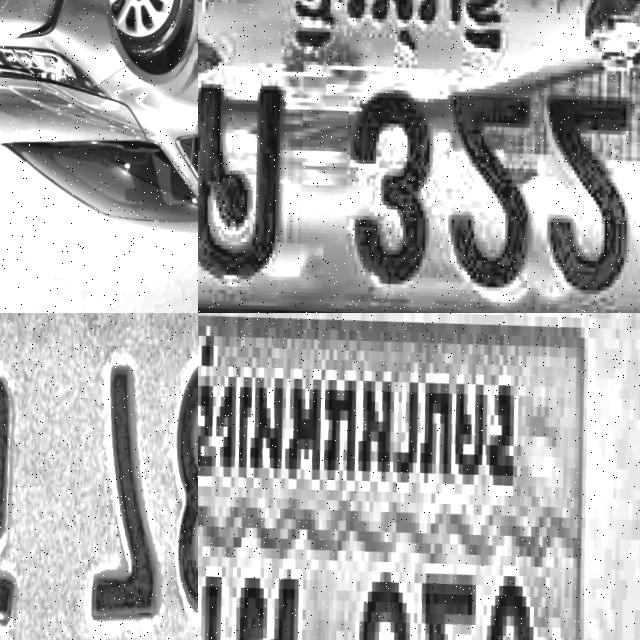license-plate: (198, 313, 640, 640), (198, 0, 640, 313), (0, 313, 198, 640)
